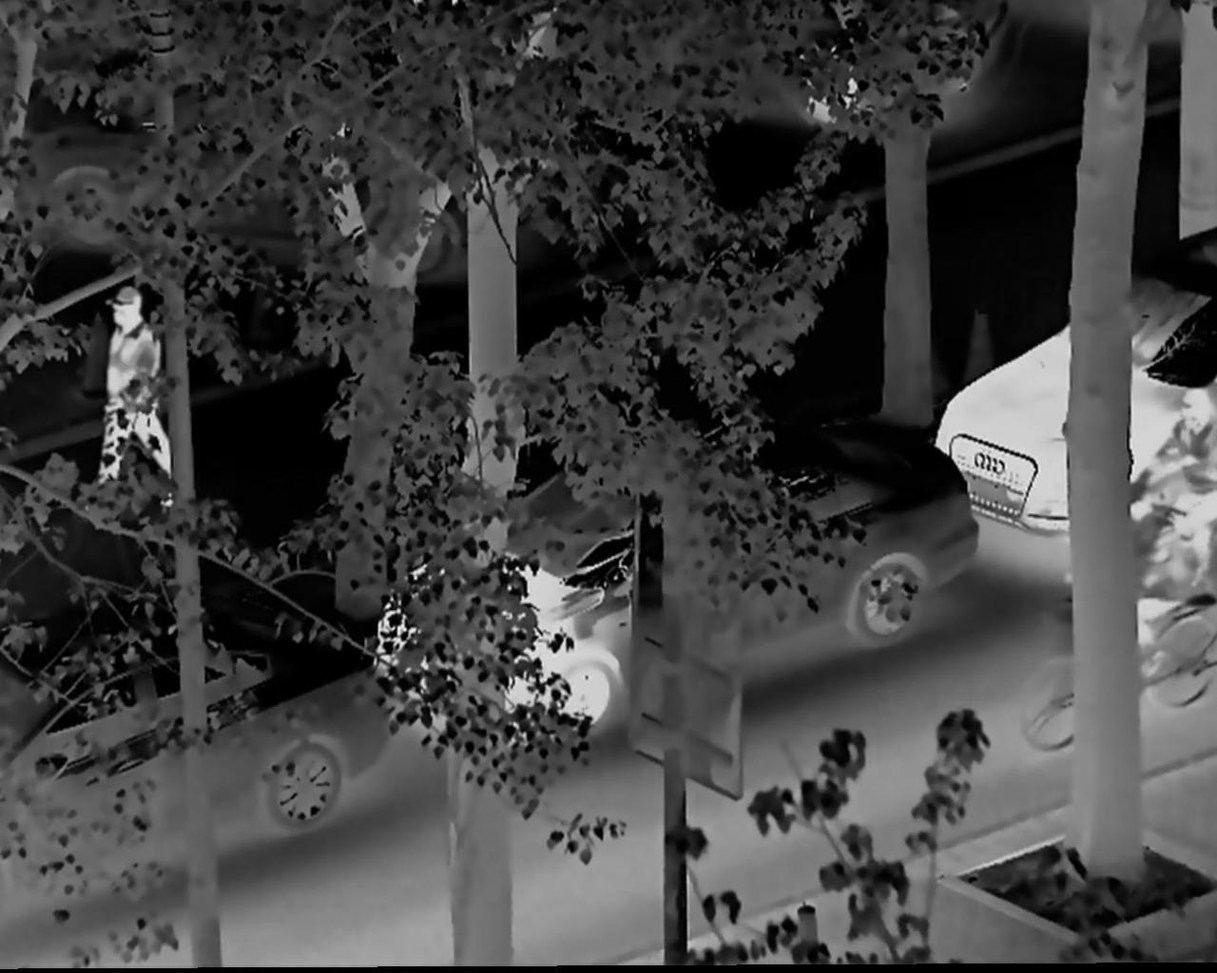person: (84, 275, 180, 499), (1140, 368, 1217, 645)
